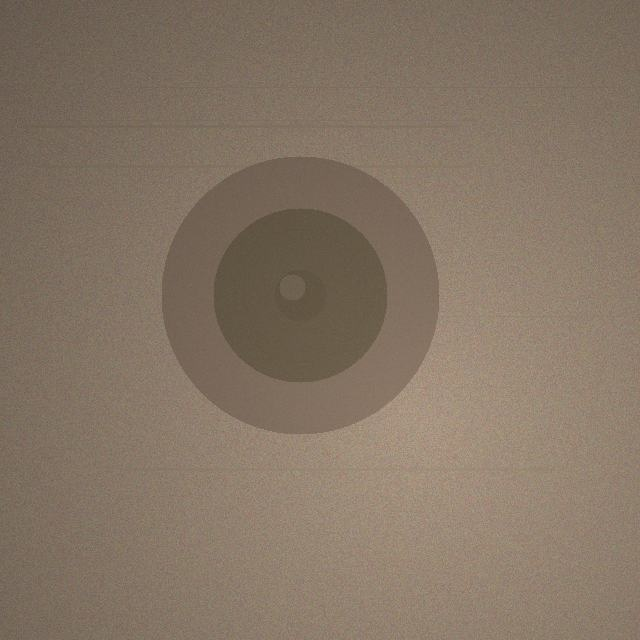good: (161, 156, 439, 434)
